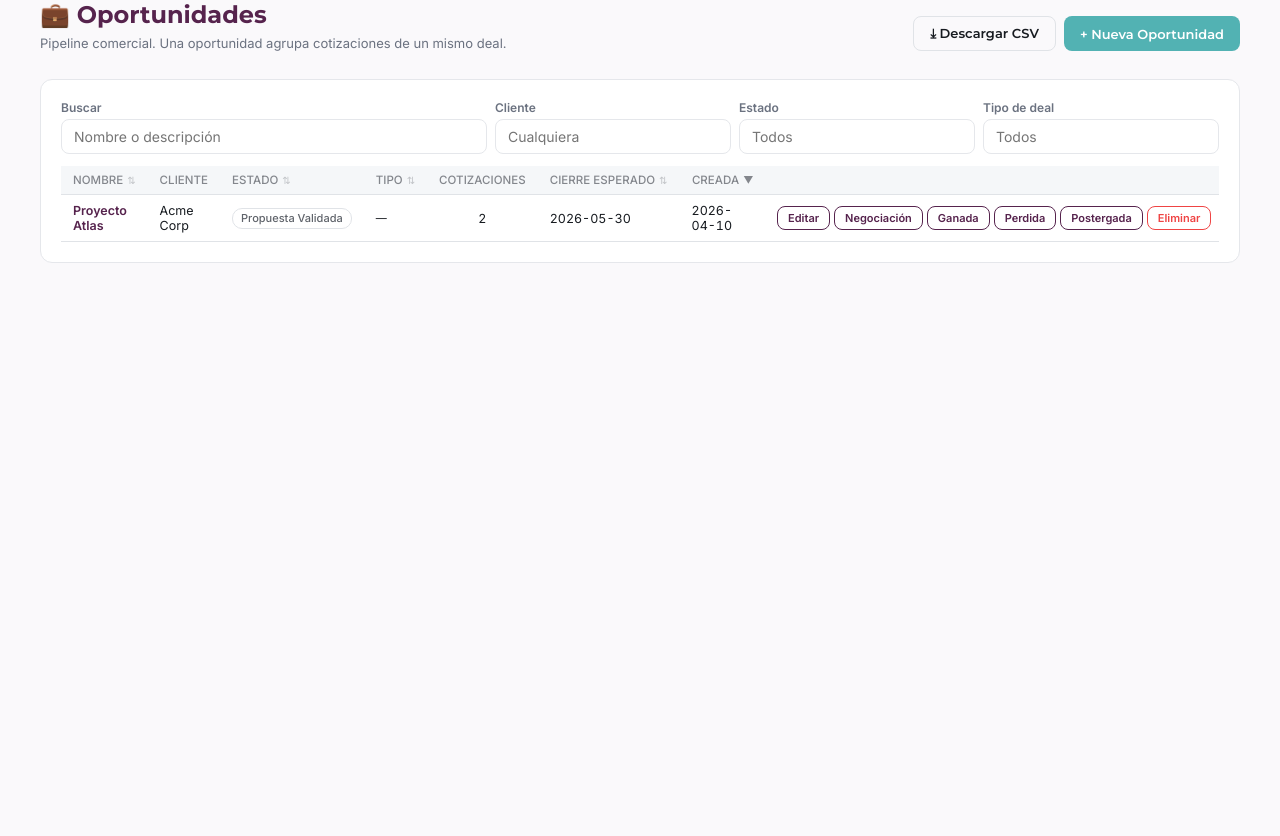
Scenario: Opportunities module › opens edit modal with prefilled name and disables client change
The image size is (1280, 836).
Expected: the link "Proyecto Atlas" is shown, left=73, top=203, right=127, bottom=233
Click the button with aria-label "Editar Proyecto Atlas" at (804, 218), box left=777, top=206, right=830, bottom=230
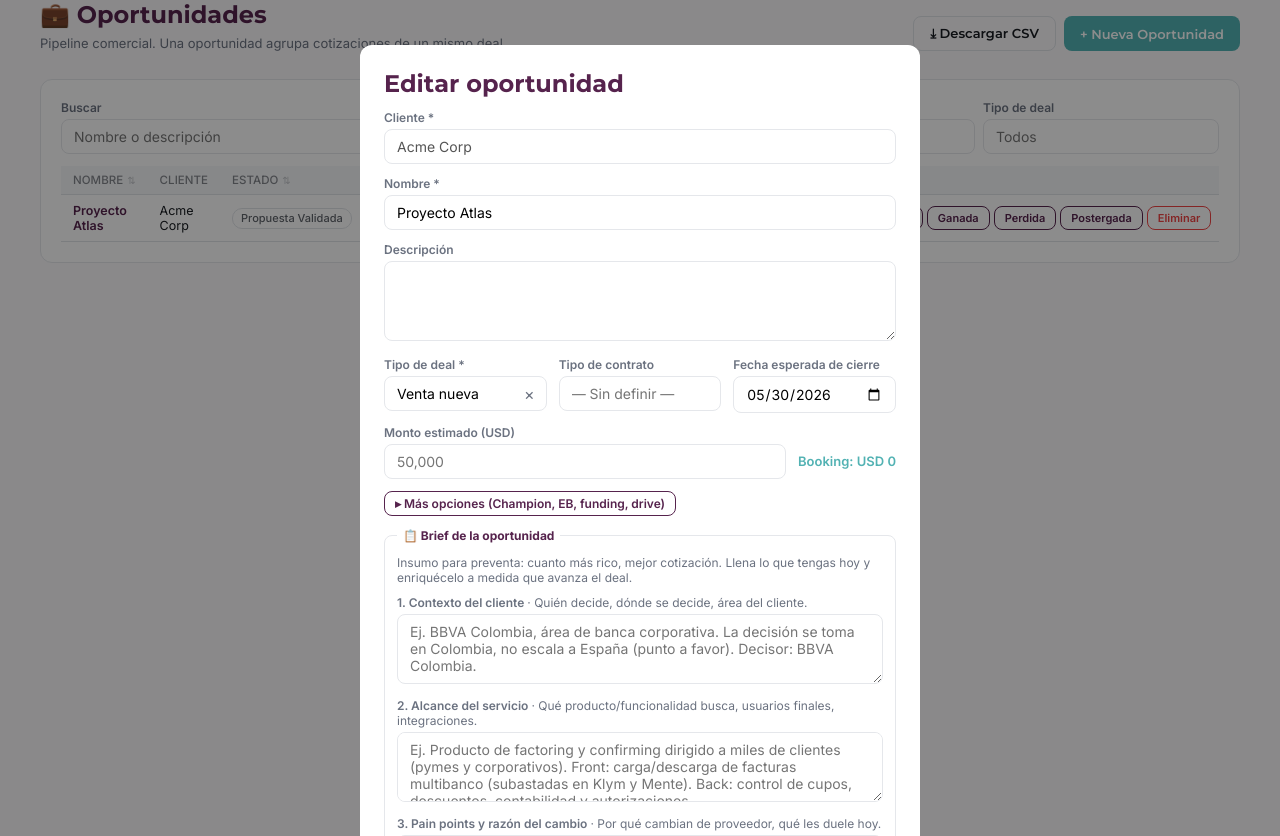
Expected: the heading "Editar oportunidad" is shown, left=384, top=69, right=624, bottom=98
Expected: the field showing "Proyecto Atlas" is shown, left=384, top=195, right=896, bottom=230
Expected: the dropdown named "Cliente" is disabled, left=384, top=129, right=896, bottom=164
